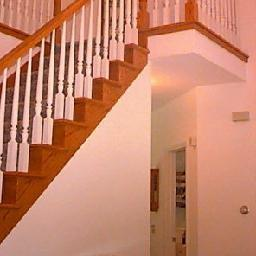Escaleras: (2, 3, 142, 251)
